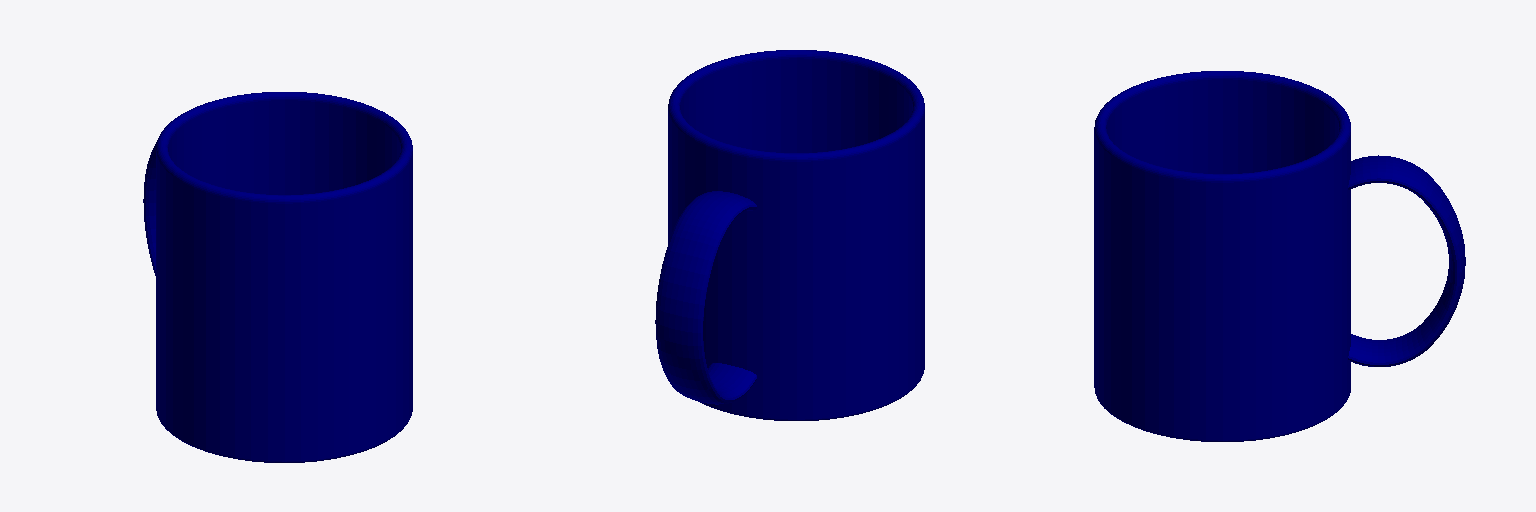
3 renders of one model, left to right at view 1: azimuth 30°, elevation 25°; view 2: azimuth 150°, elevation 25°; view 3: azimuth 270°, elevation 25°, orthographic.
Parts seen in each view (by area): view 1: model_normalized.018; view 2: model_normalized.018; view 3: model_normalized.018.
Boxes of the visible parts, box(x1,y1,x2,y2) form: model_normalized.018: box(143, 92, 412, 462); model_normalized.018: box(655, 50, 924, 420); model_normalized.018: box(1094, 71, 1465, 441).
Size of the model in its own units: 0.4774 by 0.5448 by 0.6895.